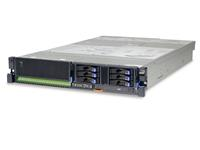ibm-server: (5, 33, 197, 99)
